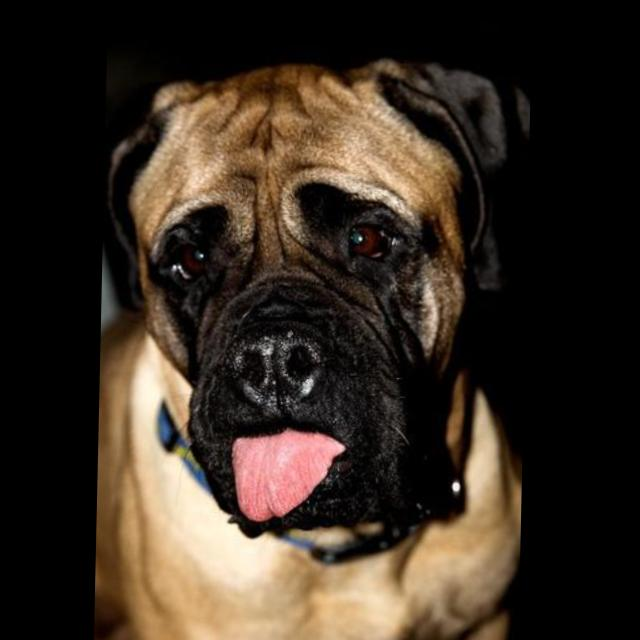bullmastiff: (98, 43, 532, 640)
